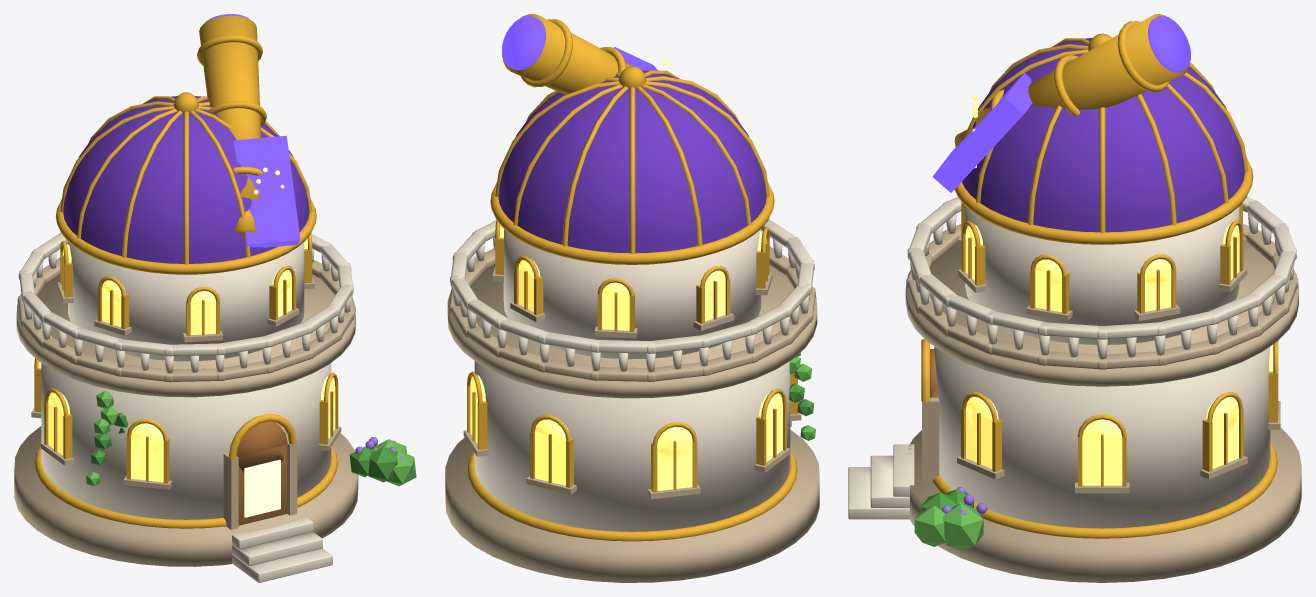
File: obs.glb
The picture shows the model from 3 angles, left to right: view 1: azimuth 30°, elevation 25°; view 2: azimuth 150°, elevation 25°; view 3: azimuth 270°, elevation 25°; orthographic projection. The views are drawn at different scales.
Visible parts, largest first — view 1: Obs.001; view 2: Obs.001; view 3: Obs.001.
Part boxes in pixels (x1,y1,x2,y2): Obs.001: (14, 14, 416, 582); Obs.001: (445, 14, 819, 582); Obs.001: (848, 14, 1301, 582).
Bounding box in the file's own units: 3.31 × 4.59 × 3.64.
